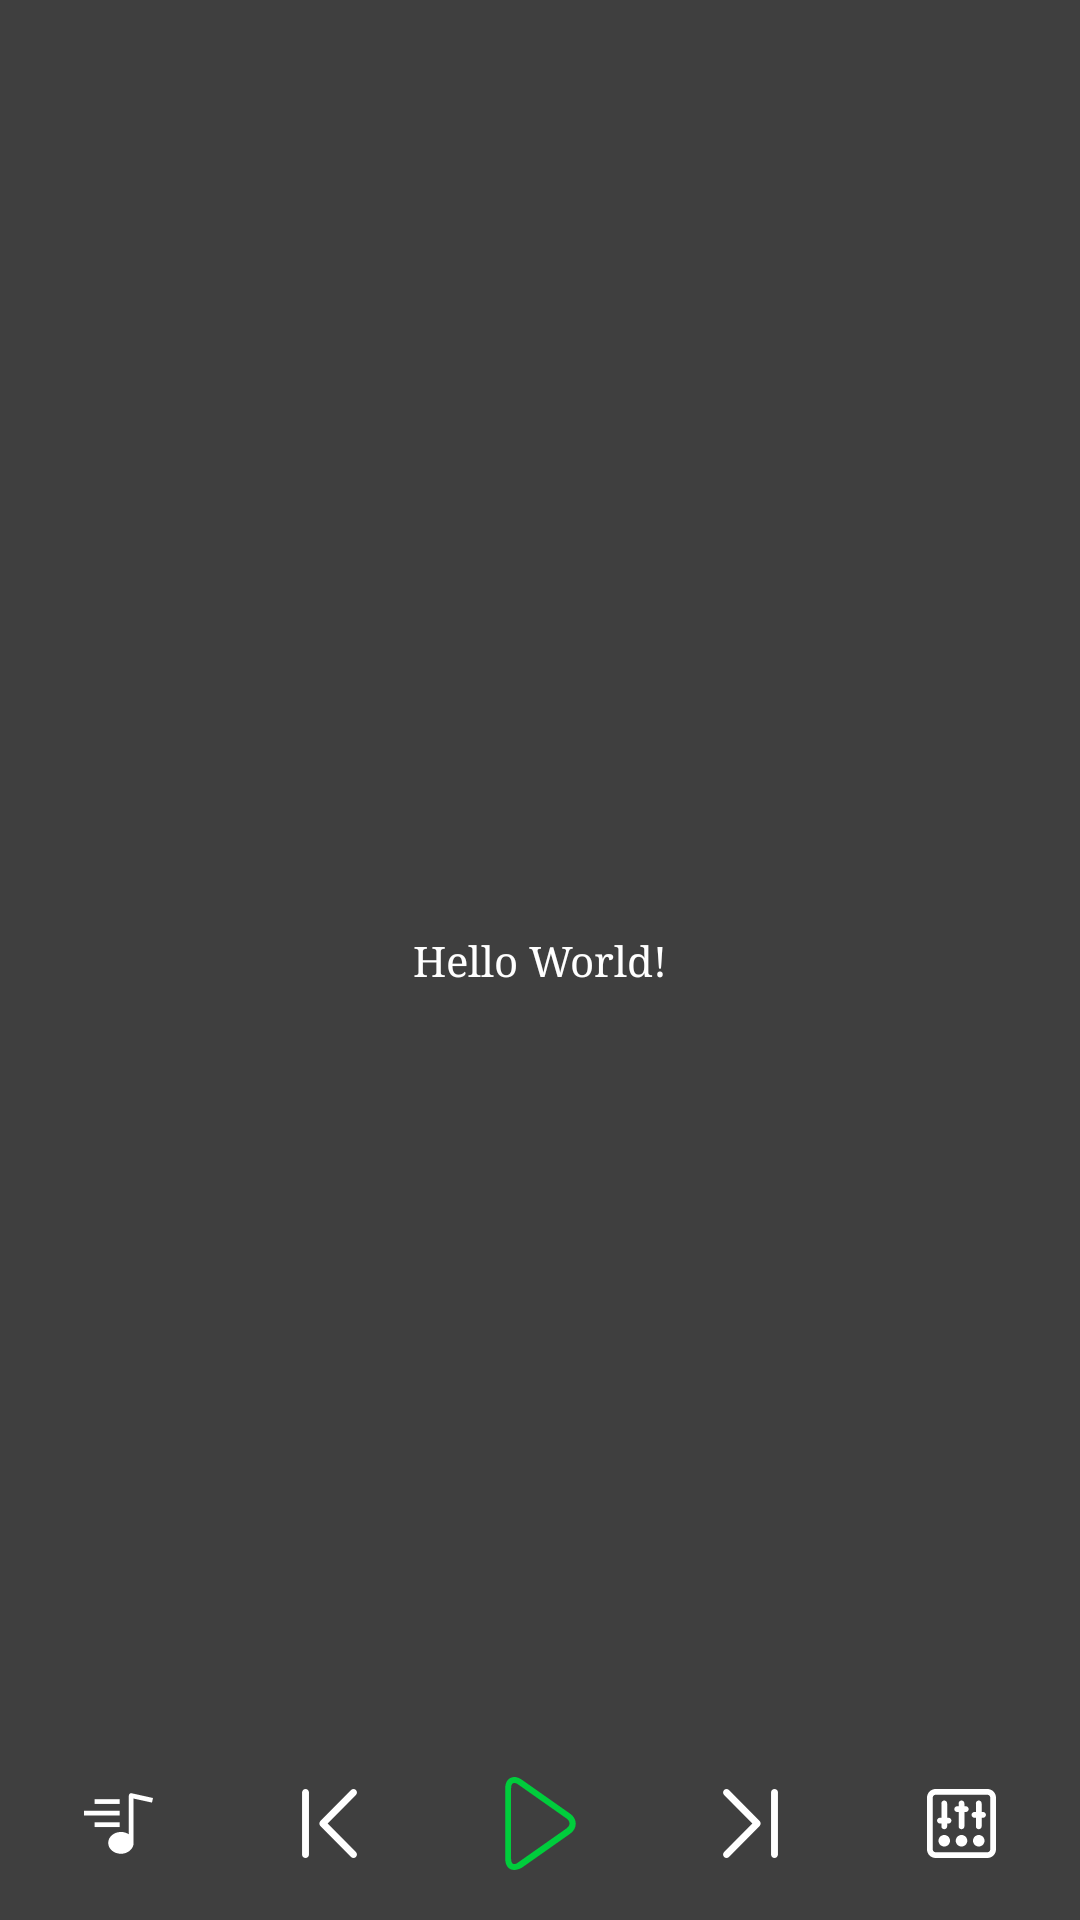

Screen size 1080*1920. Icon name, then its box in pixels as [x1,y1,x2,y2]:
mixer: [927,1789,996,1858]
play: [505,1777,576,1870]
playlist: [84,1793,153,1854]
